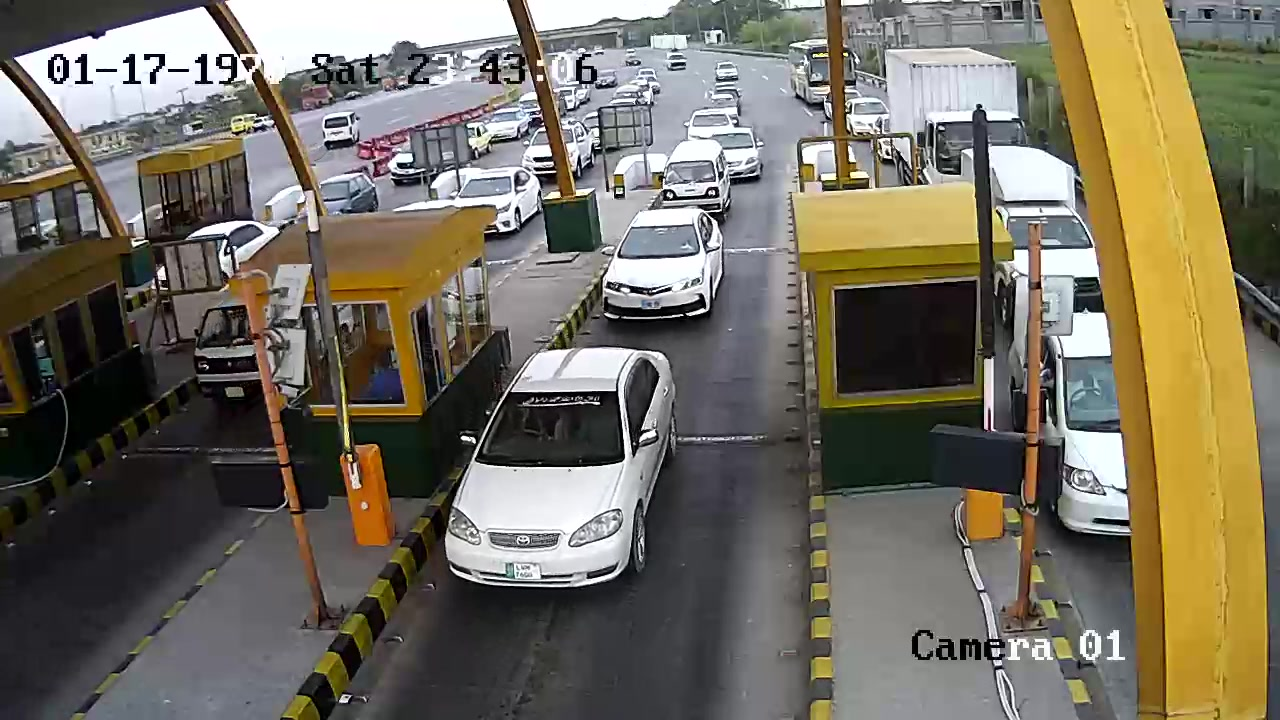F1: (452, 345, 709, 596), (590, 202, 734, 331)
